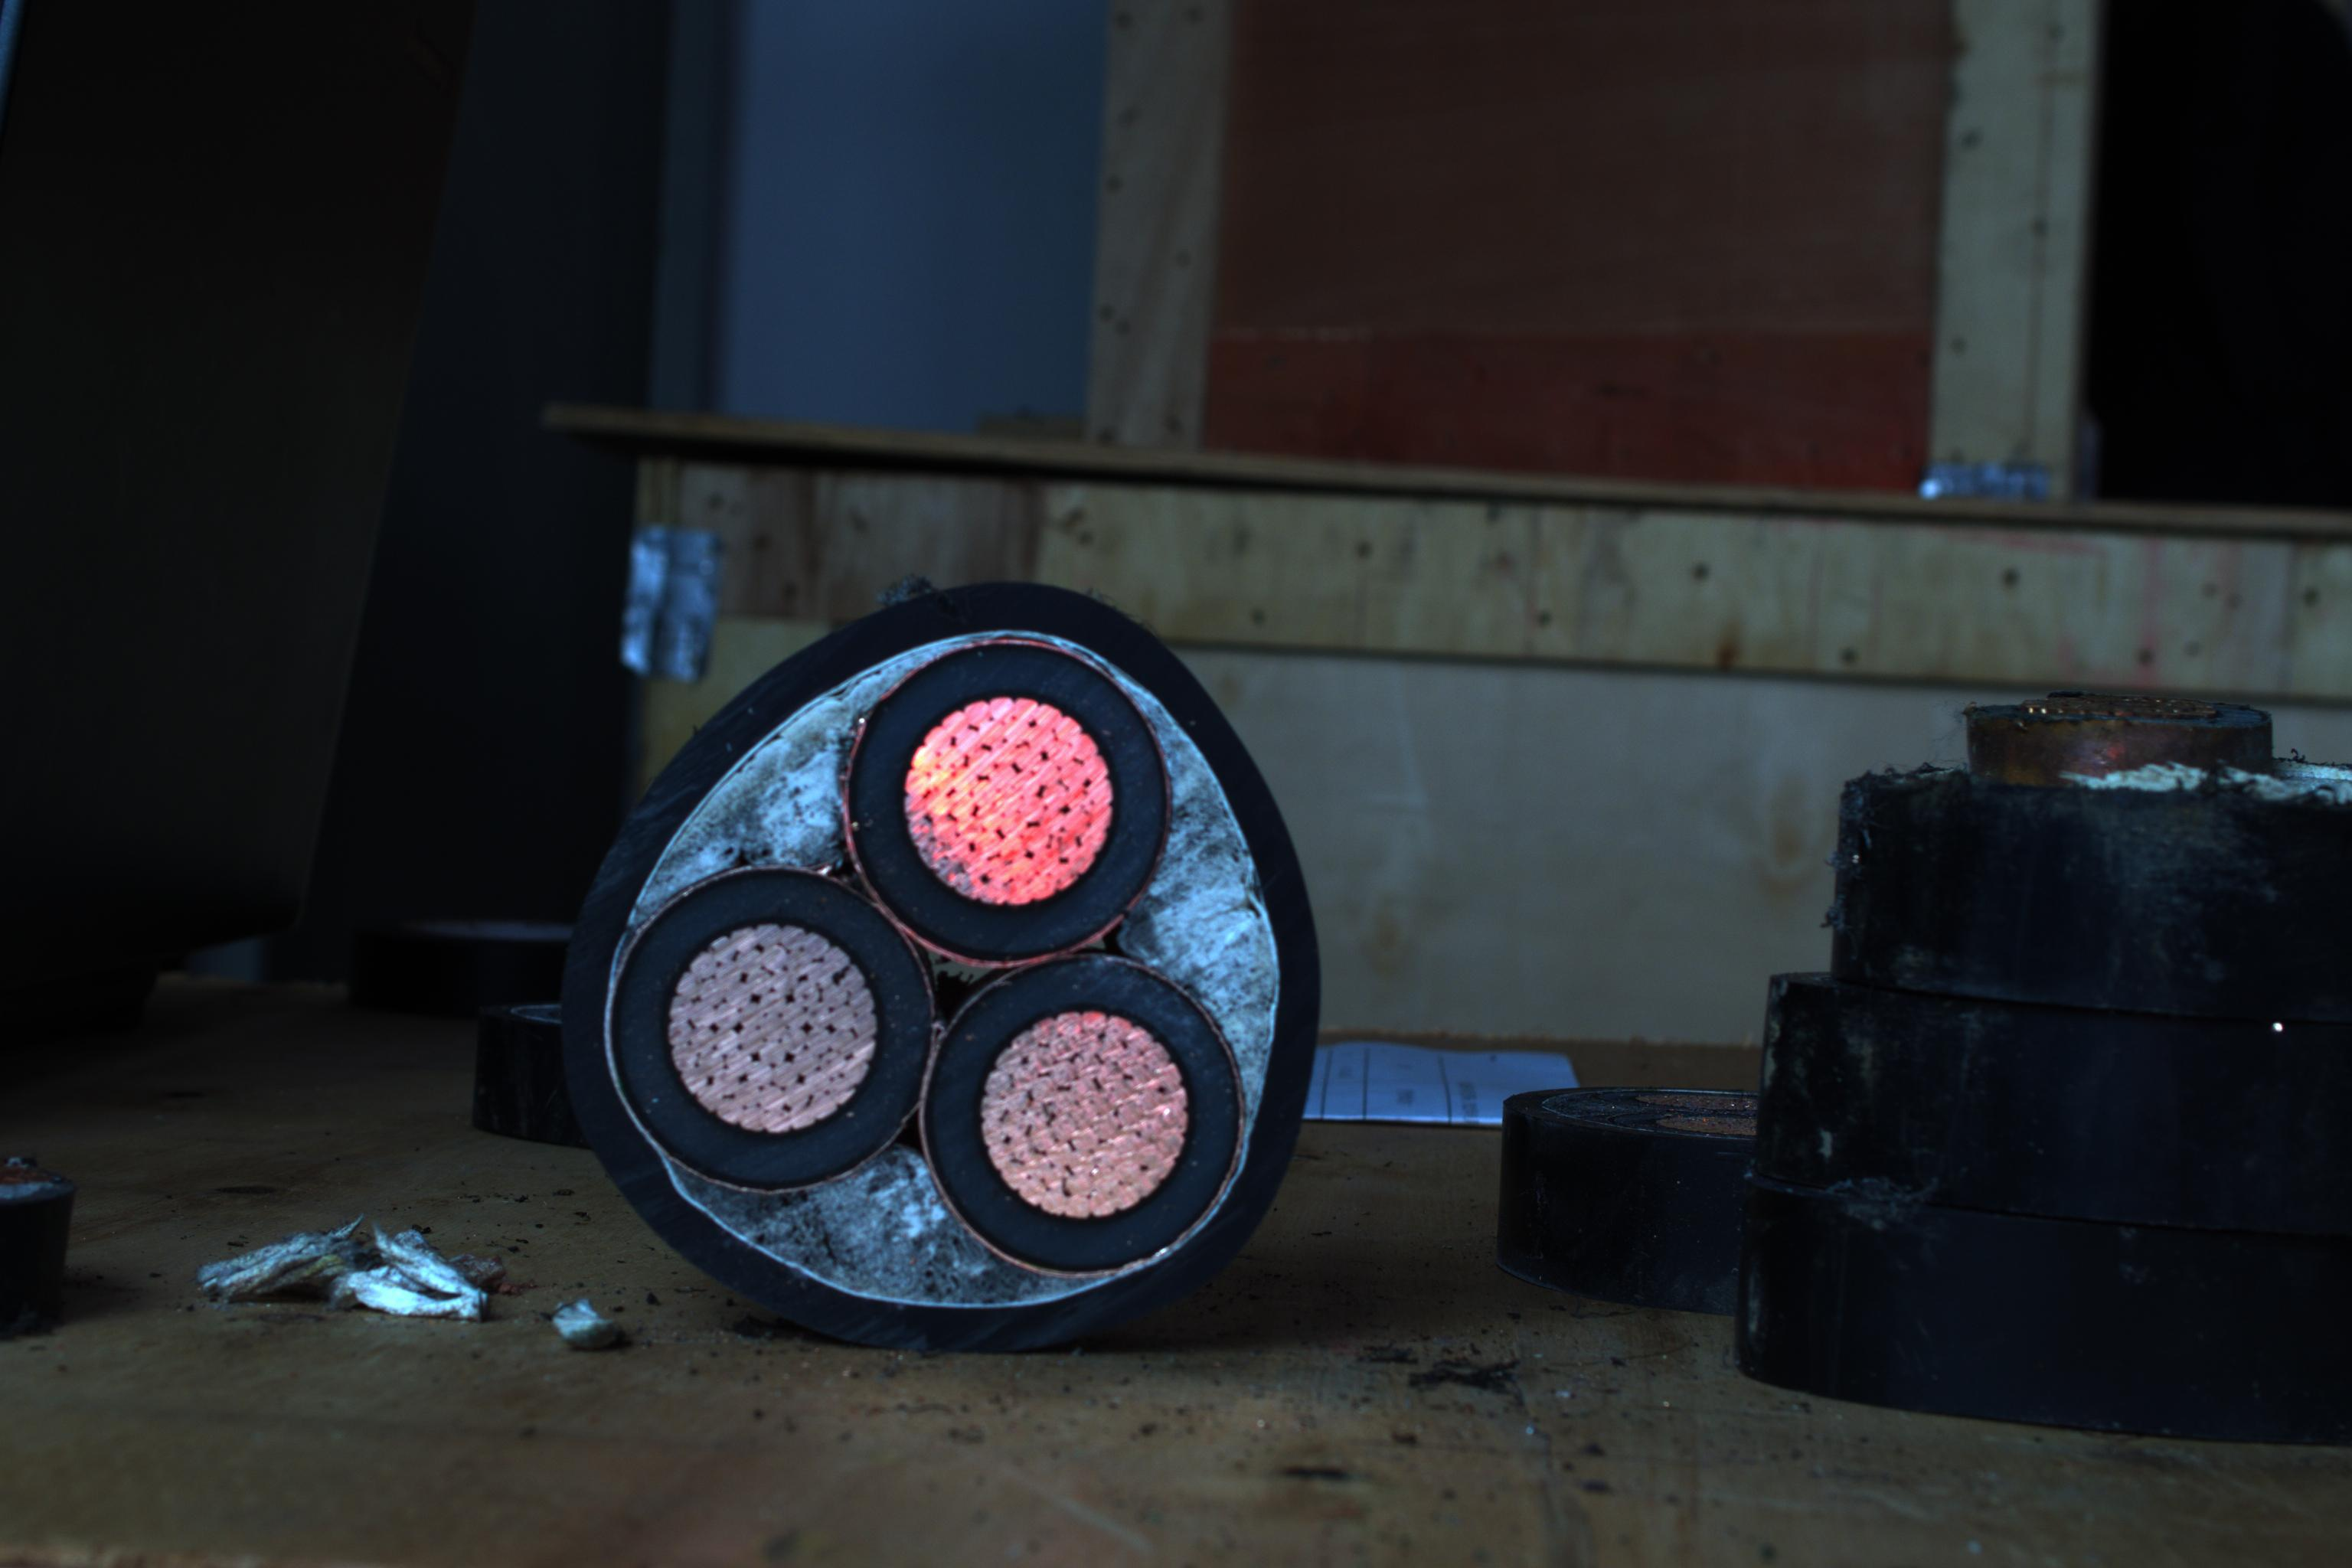ZA_YJV_8.7_10kV_3x400: (581, 597, 1298, 1314)
